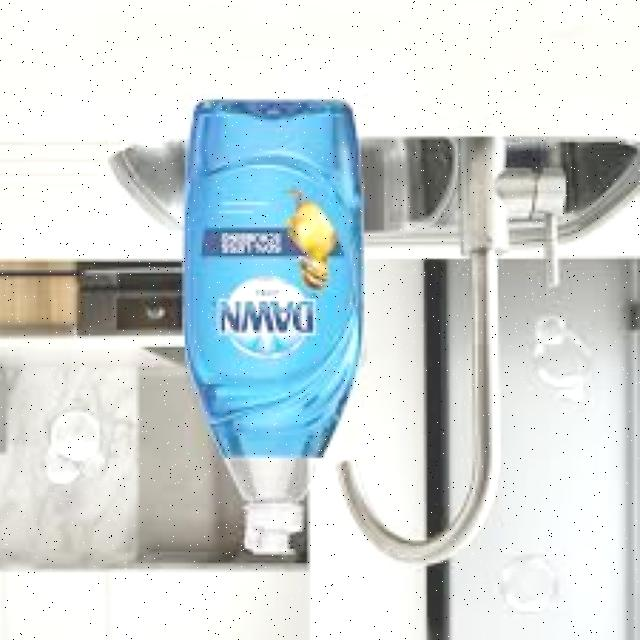liquid soap: (180, 94, 360, 556)
